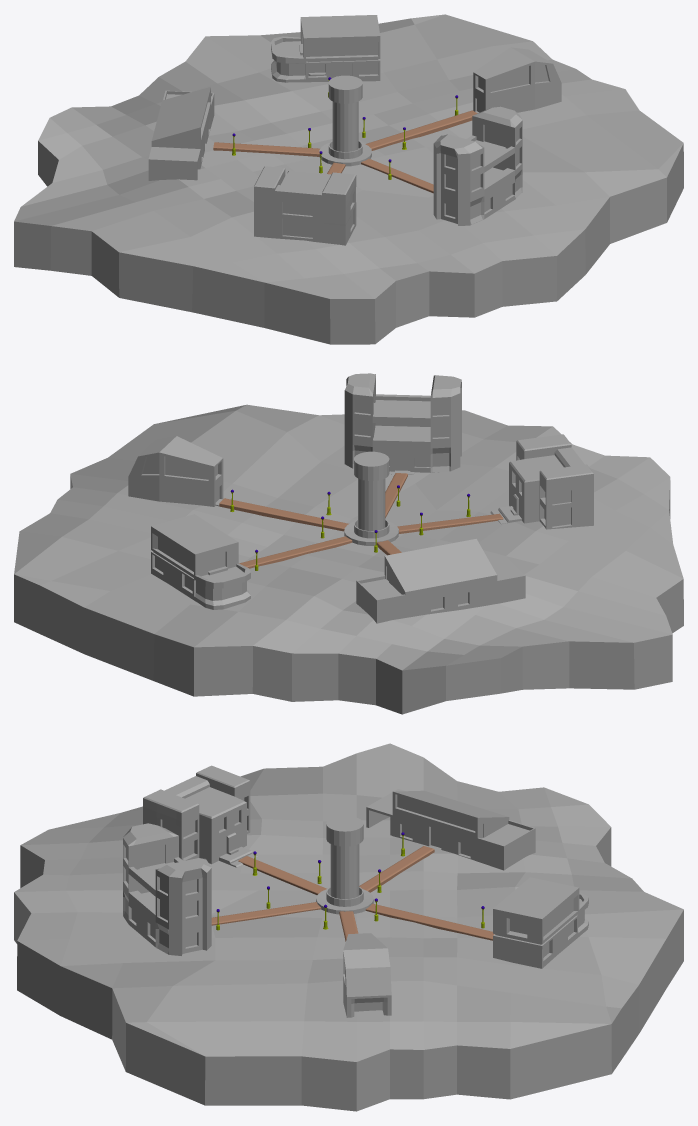
The model's file is proper village (1).fbx.
3 views of the same model, one above another, from view 1: azimuth 30°, elevation 25°; view 2: azimuth 150°, elevation 25°; view 3: azimuth 270°, elevation 25° (orthographic). The views are drawn at different scales.
Visible parts, largest first — view 1: polySurface10, pCube5, pCube2, pCube3, pCube6, pCube4, pCylinder1, polySurface6; view 2: polySurface10, pCube5, pCube6, pCube2, pCube3, pCube4, polySurface6, pCylinder1; view 3: polySurface10, pCube5, pCube6, pCube2, pCube3, polySurface6, pCube4, pCylinder1, polySurface30.
Boxes of the visible parts, x1,y1,x2,y2 form: polySurface10: (14, 14, 683, 344); pCube5: (433, 106, 522, 225); pCube2: (254, 166, 356, 245); pCube3: (271, 15, 380, 82); pCube6: (148, 87, 214, 180); pCube4: (473, 47, 561, 113); pCylinder1: (319, 75, 371, 166); polySurface6: (213, 110, 477, 193); polySurface10: (14, 404, 683, 714); pCube5: (344, 373, 461, 474); pCube6: (356, 539, 525, 623); pCube2: (490, 434, 593, 529); pCube3: (151, 514, 250, 609); pCube4: (128, 436, 223, 506); polySurface6: (219, 473, 503, 568); pCylinder1: (344, 451, 398, 545); polySurface10: (14, 743, 683, 1111); pCube5: (123, 823, 211, 955); pCube6: (366, 789, 535, 870); pCube2: (143, 765, 258, 867); pCube3: (493, 877, 588, 968); polySurface6: (211, 846, 494, 941); pCube4: (343, 933, 391, 1017); pCylinder1: (316, 815, 373, 914); polySurface30: (216, 832, 484, 930).
Size of the model in its own units: 397 by 81.31 by 355.
